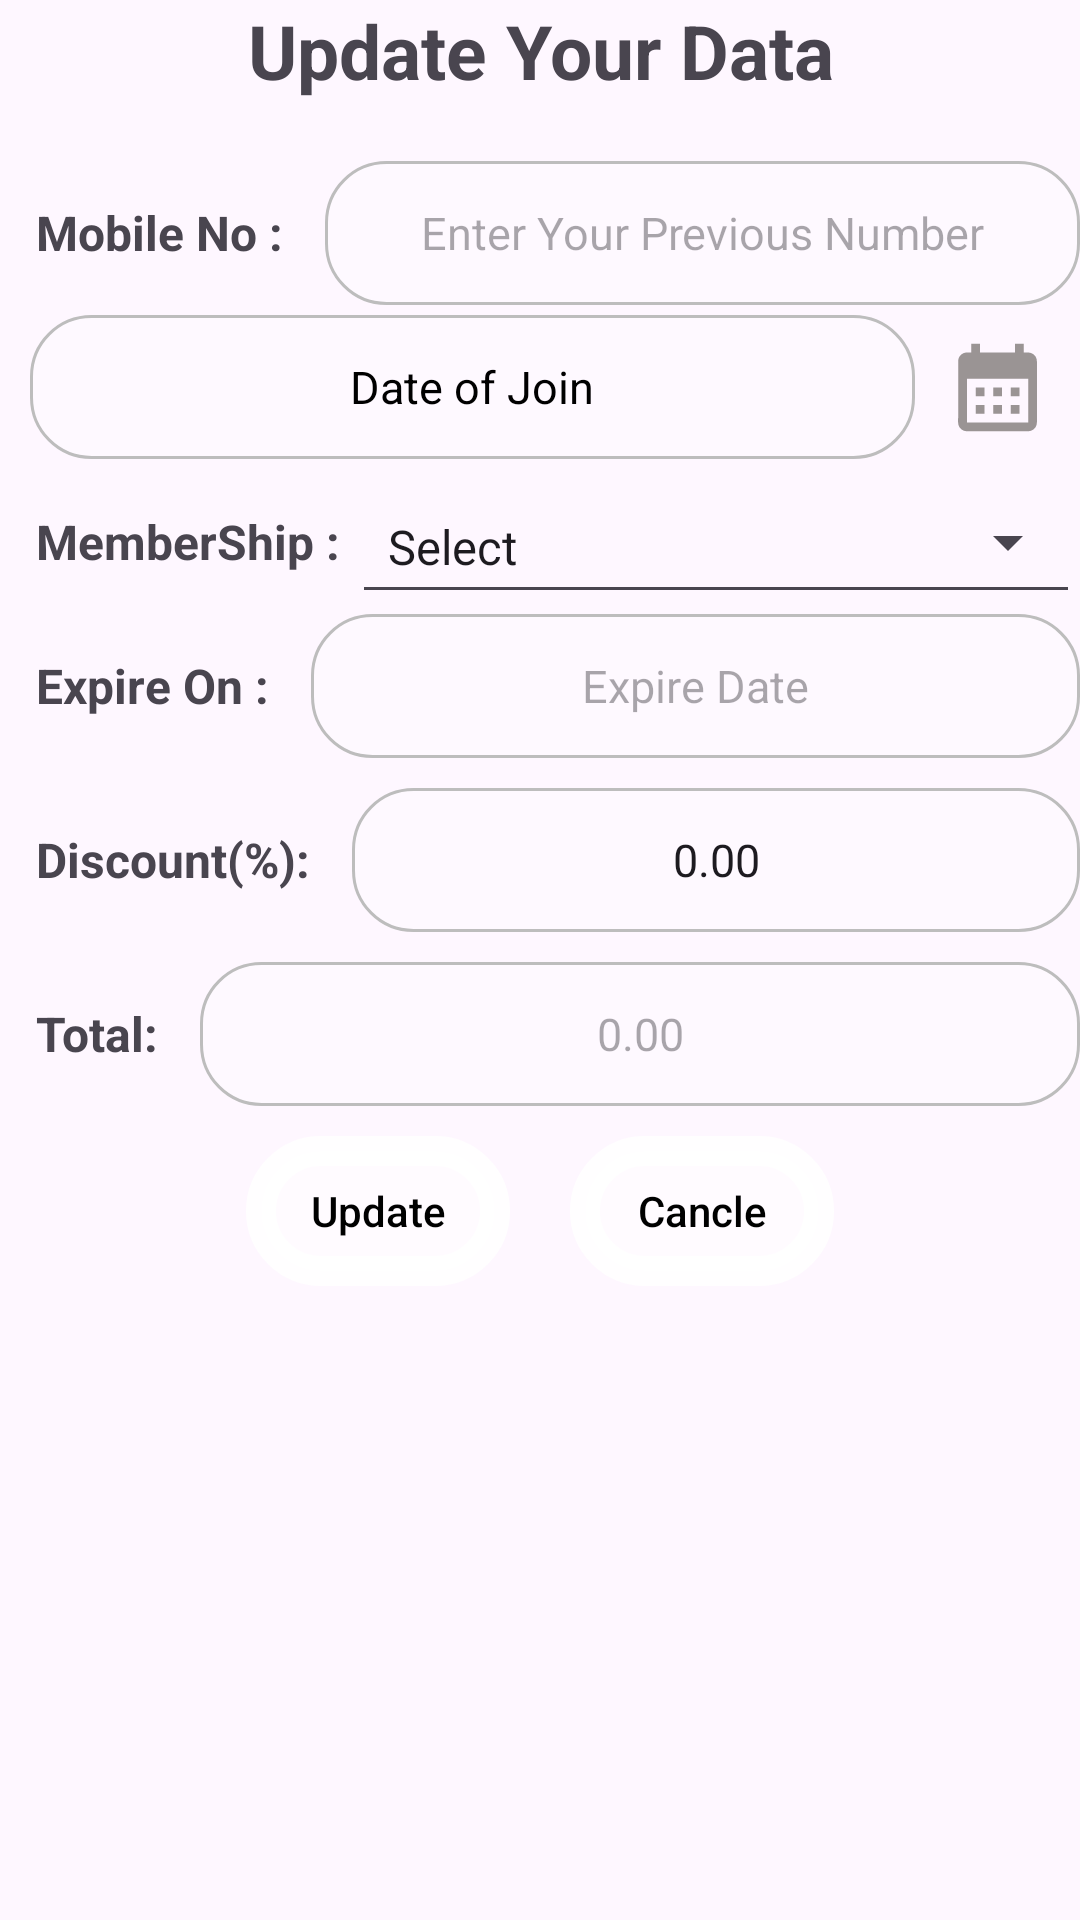

Screen size 1080×1920. Icon name, then its box in pixels as (x1, y1, x2, y2):
calendar month: (958, 343, 1037, 432)
